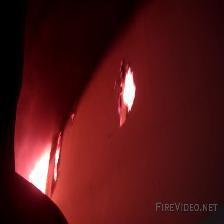fire: (31, 134, 61, 189), (115, 66, 137, 113)
